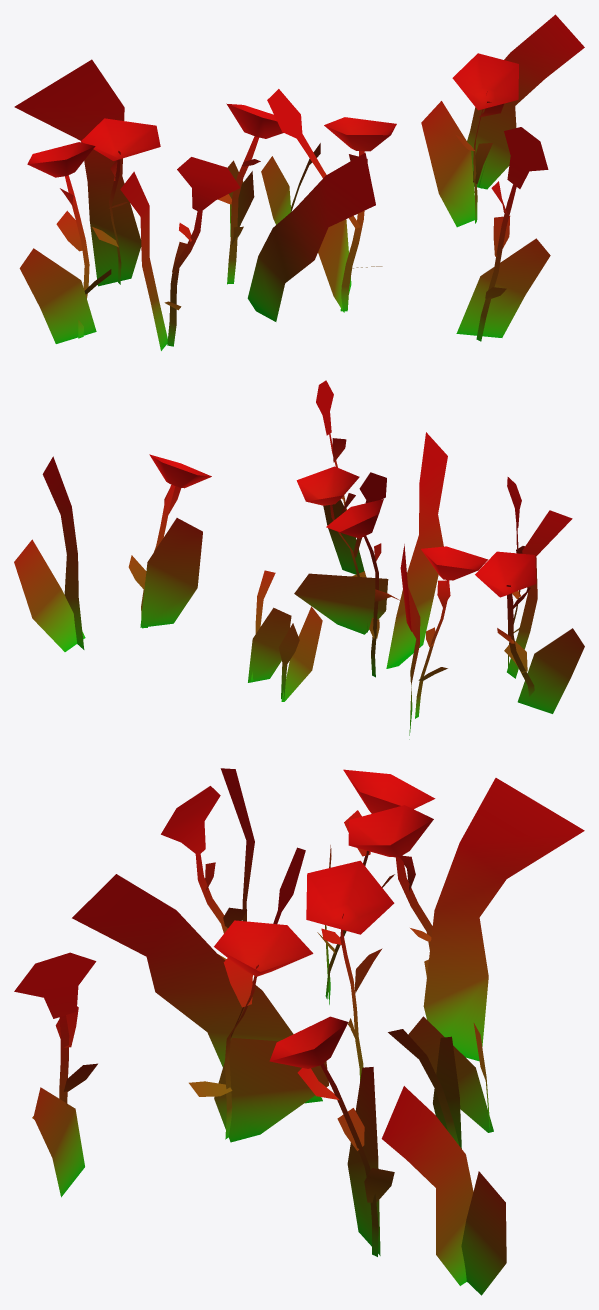
File: Var10_LOD1.fbx
3 views of the same model, one above another, from view 1: azimuth 30°, elevation 25°; view 2: azimuth 150°, elevation 25°; view 3: azimuth 270°, elevation 25° (orthographic). The views are drawn at different scales.
Parts seen in each view (by area): view 1: _d19c_Var10_LOD1; view 2: _d19c_Var10_LOD1; view 3: _d19c_Var10_LOD1.
Part boxes in pixels (box(x1,y1,x2,y2)): _d19c_Var10_LOD1: box(14, 14, 584, 350); _d19c_Var10_LOD1: box(14, 380, 584, 739); _d19c_Var10_LOD1: box(14, 768, 584, 1295).
Size of the model in its own units: 18.63 by 6.78 by 12.35.
